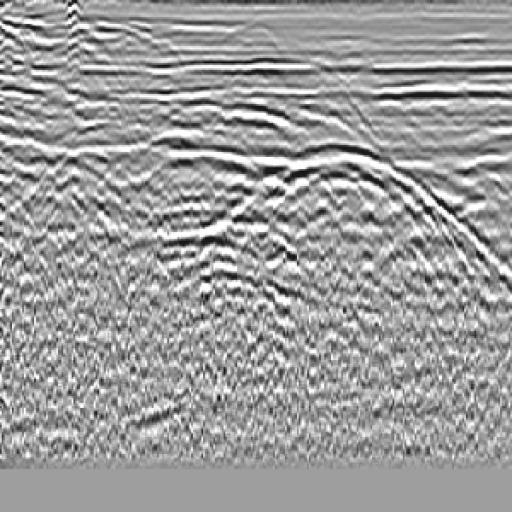non-metallic: (171, 137, 512, 332)
